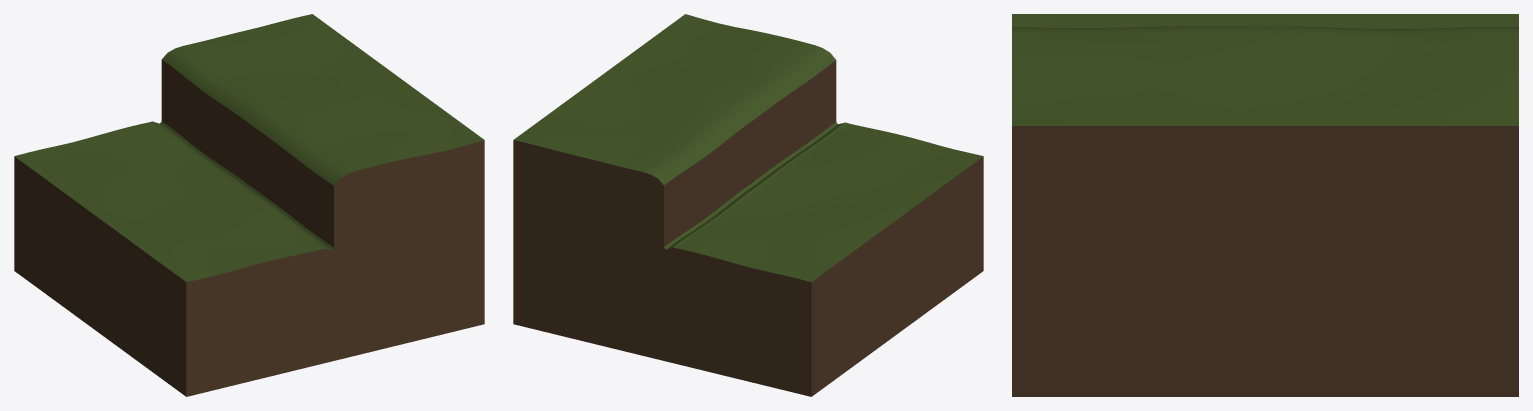
The picture shows the model from 3 angles, left to right: view 1: azimuth 30°, elevation 25°; view 2: azimuth 150°, elevation 25°; view 3: azimuth 270°, elevation 25°; orthographic projection. The views are drawn at different scales.
Parts seen in each view (by area): view 1: k2go; view 2: k2go; view 3: k2go.
Boxes of the visible parts, x1=… form: k2go: x1=14, y1=14, x2=484, y2=396; k2go: x1=513, y1=14, x2=983, y2=396; k2go: x1=1012, y1=14, x2=1518, y2=396.
Bounding box in the file's own units: 9 × 5.35 × 9.
